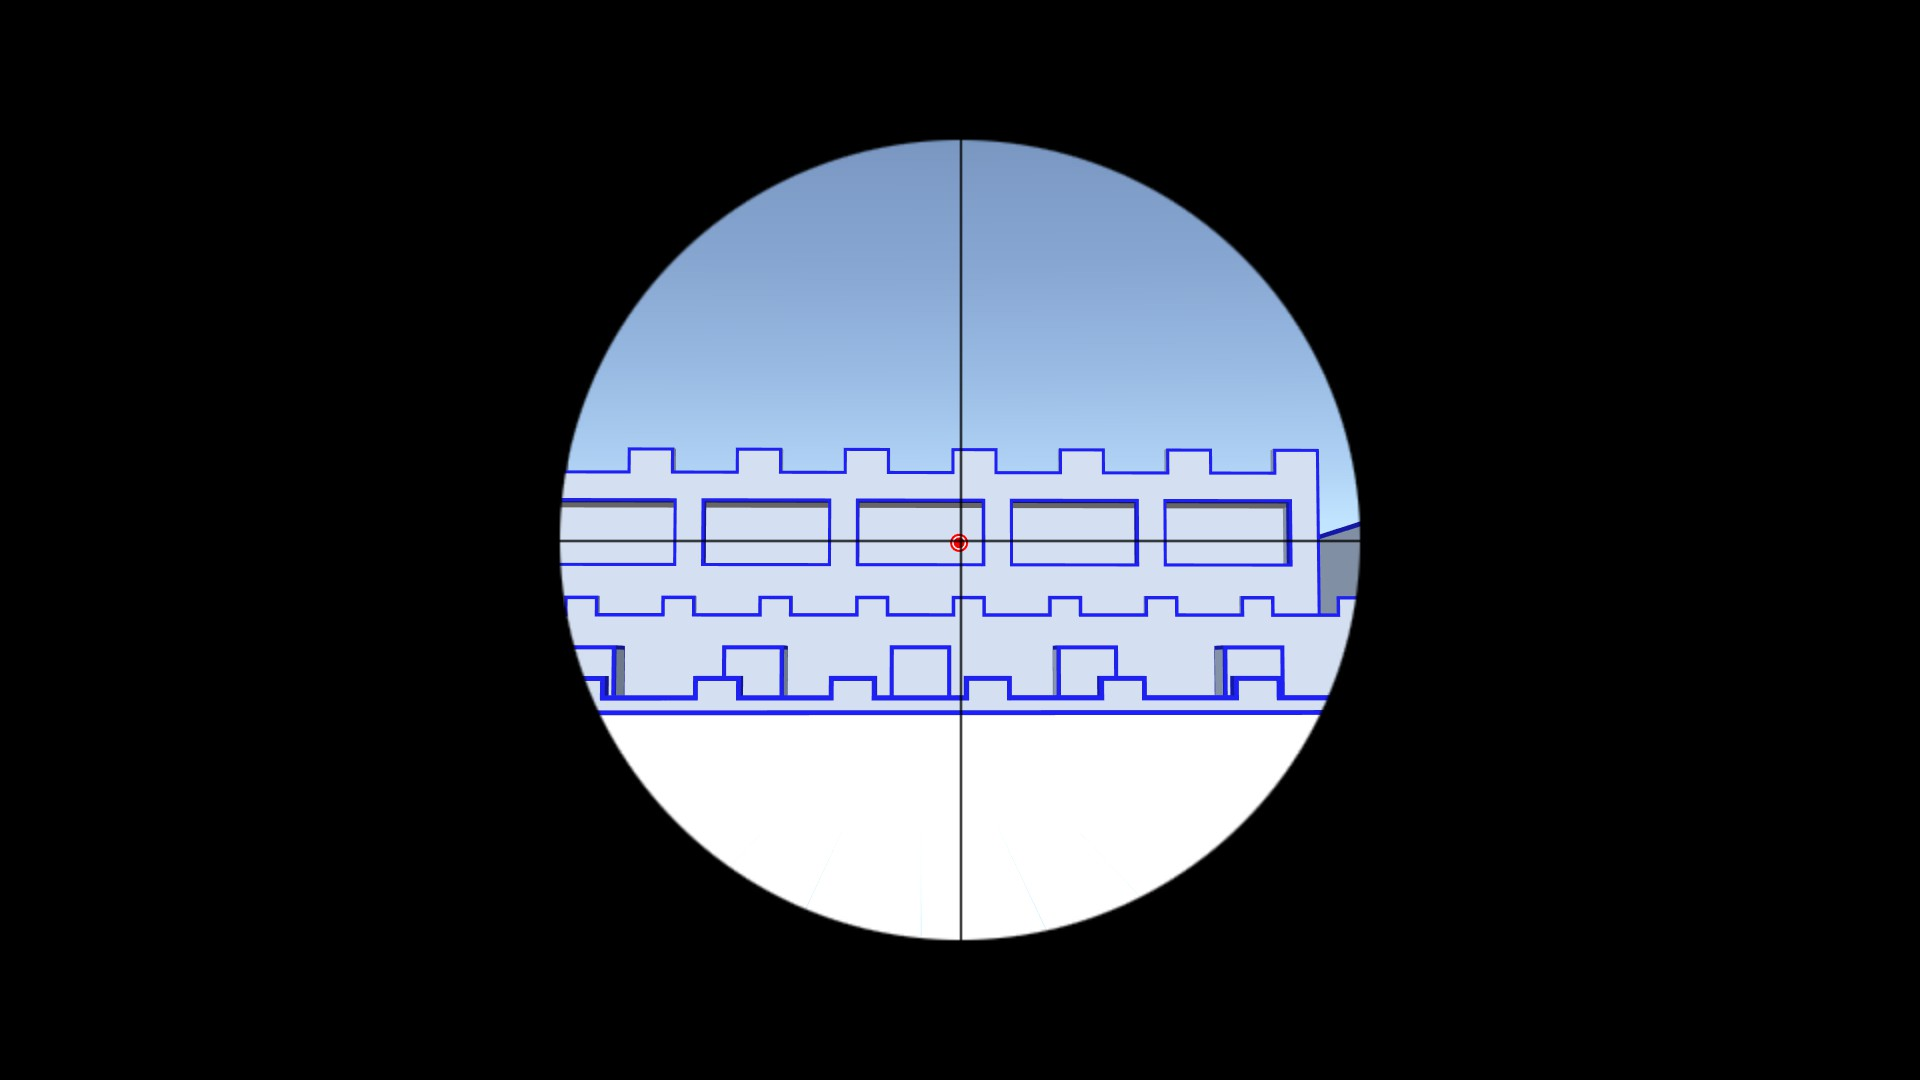target: (949, 533, 969, 553)
